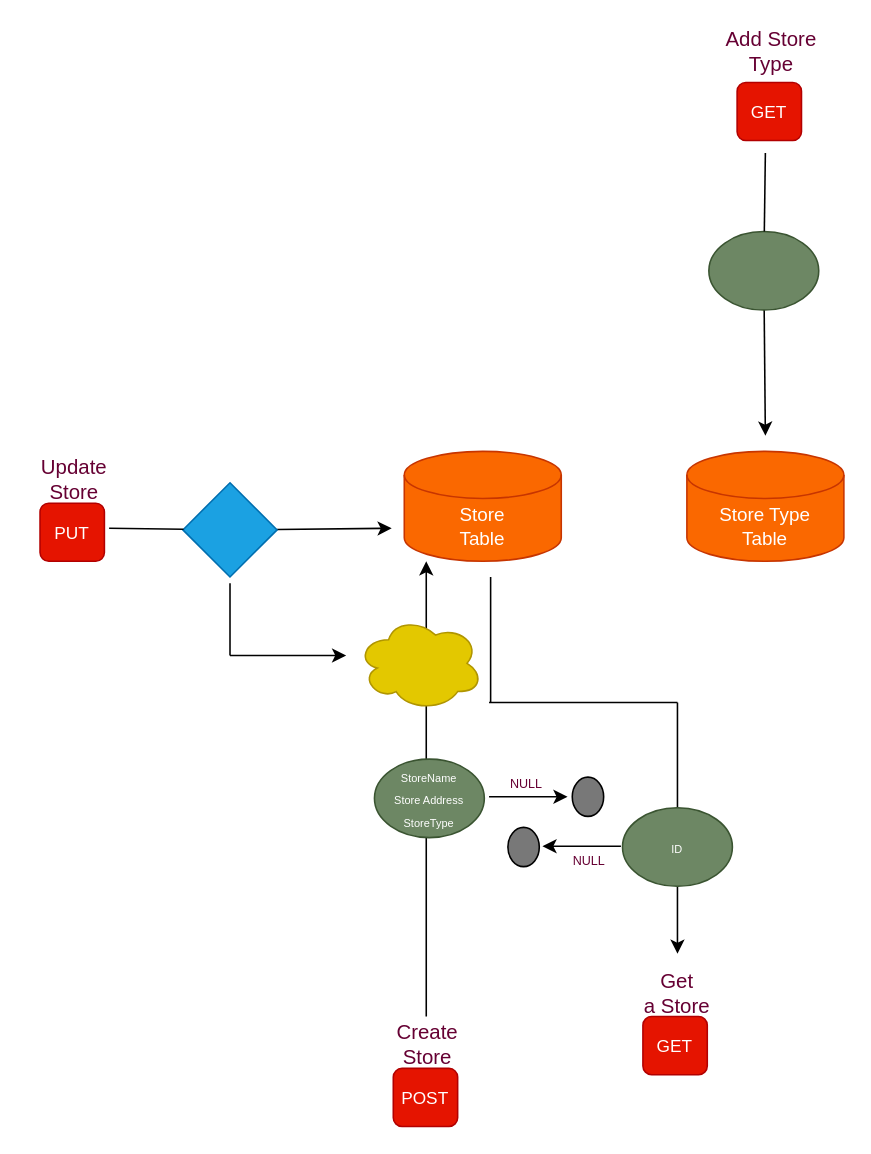
This 871x1154 diagram has some shape labels left out. The shapes that lost their labels are listed below. From the top down, each one's box as (x1, y1, x2, y2) in pixels, then its label:
(707, 230, 819, 310): NAME
(181, 481, 277, 577): file
(356, 615, 483, 710): AWS
